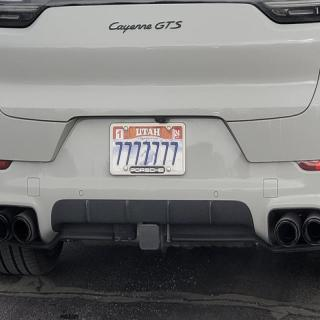license: (111, 124, 187, 177)
